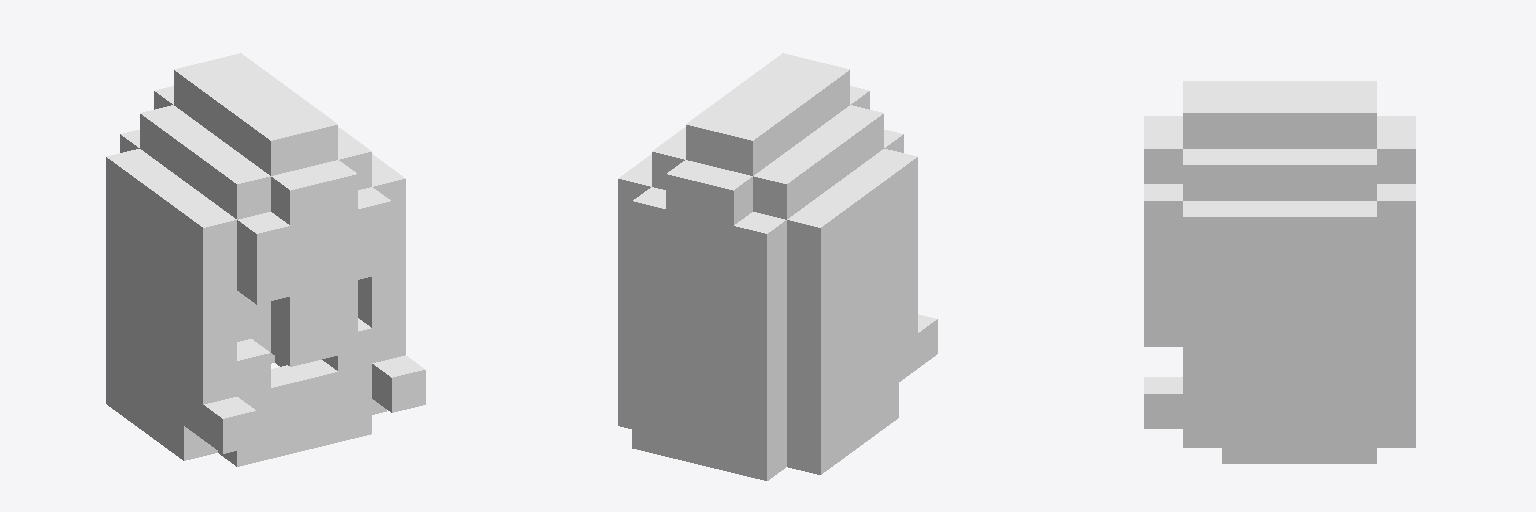
File: char-241-helm_hvy_1b_du.obj
3 views of the same model, side by side, from view 1: azimuth 30°, elevation 25°; view 2: azimuth 150°, elevation 25°; view 3: azimuth 270°, elevation 25° (orthographic).
Parts seen in each view (by area): view 1: helm_hvy_1b_du; view 2: helm_hvy_1b_du; view 3: helm_hvy_1b_du.
Boxes of the visible parts, <box> form: helm_hvy_1b_du: <box>106,53,425,466</box>; helm_hvy_1b_du: <box>618,53,937,480</box>; helm_hvy_1b_du: <box>1144,81,1415,463</box>.
Size of the model in its own units: 0.6 by 0.9 by 0.7.